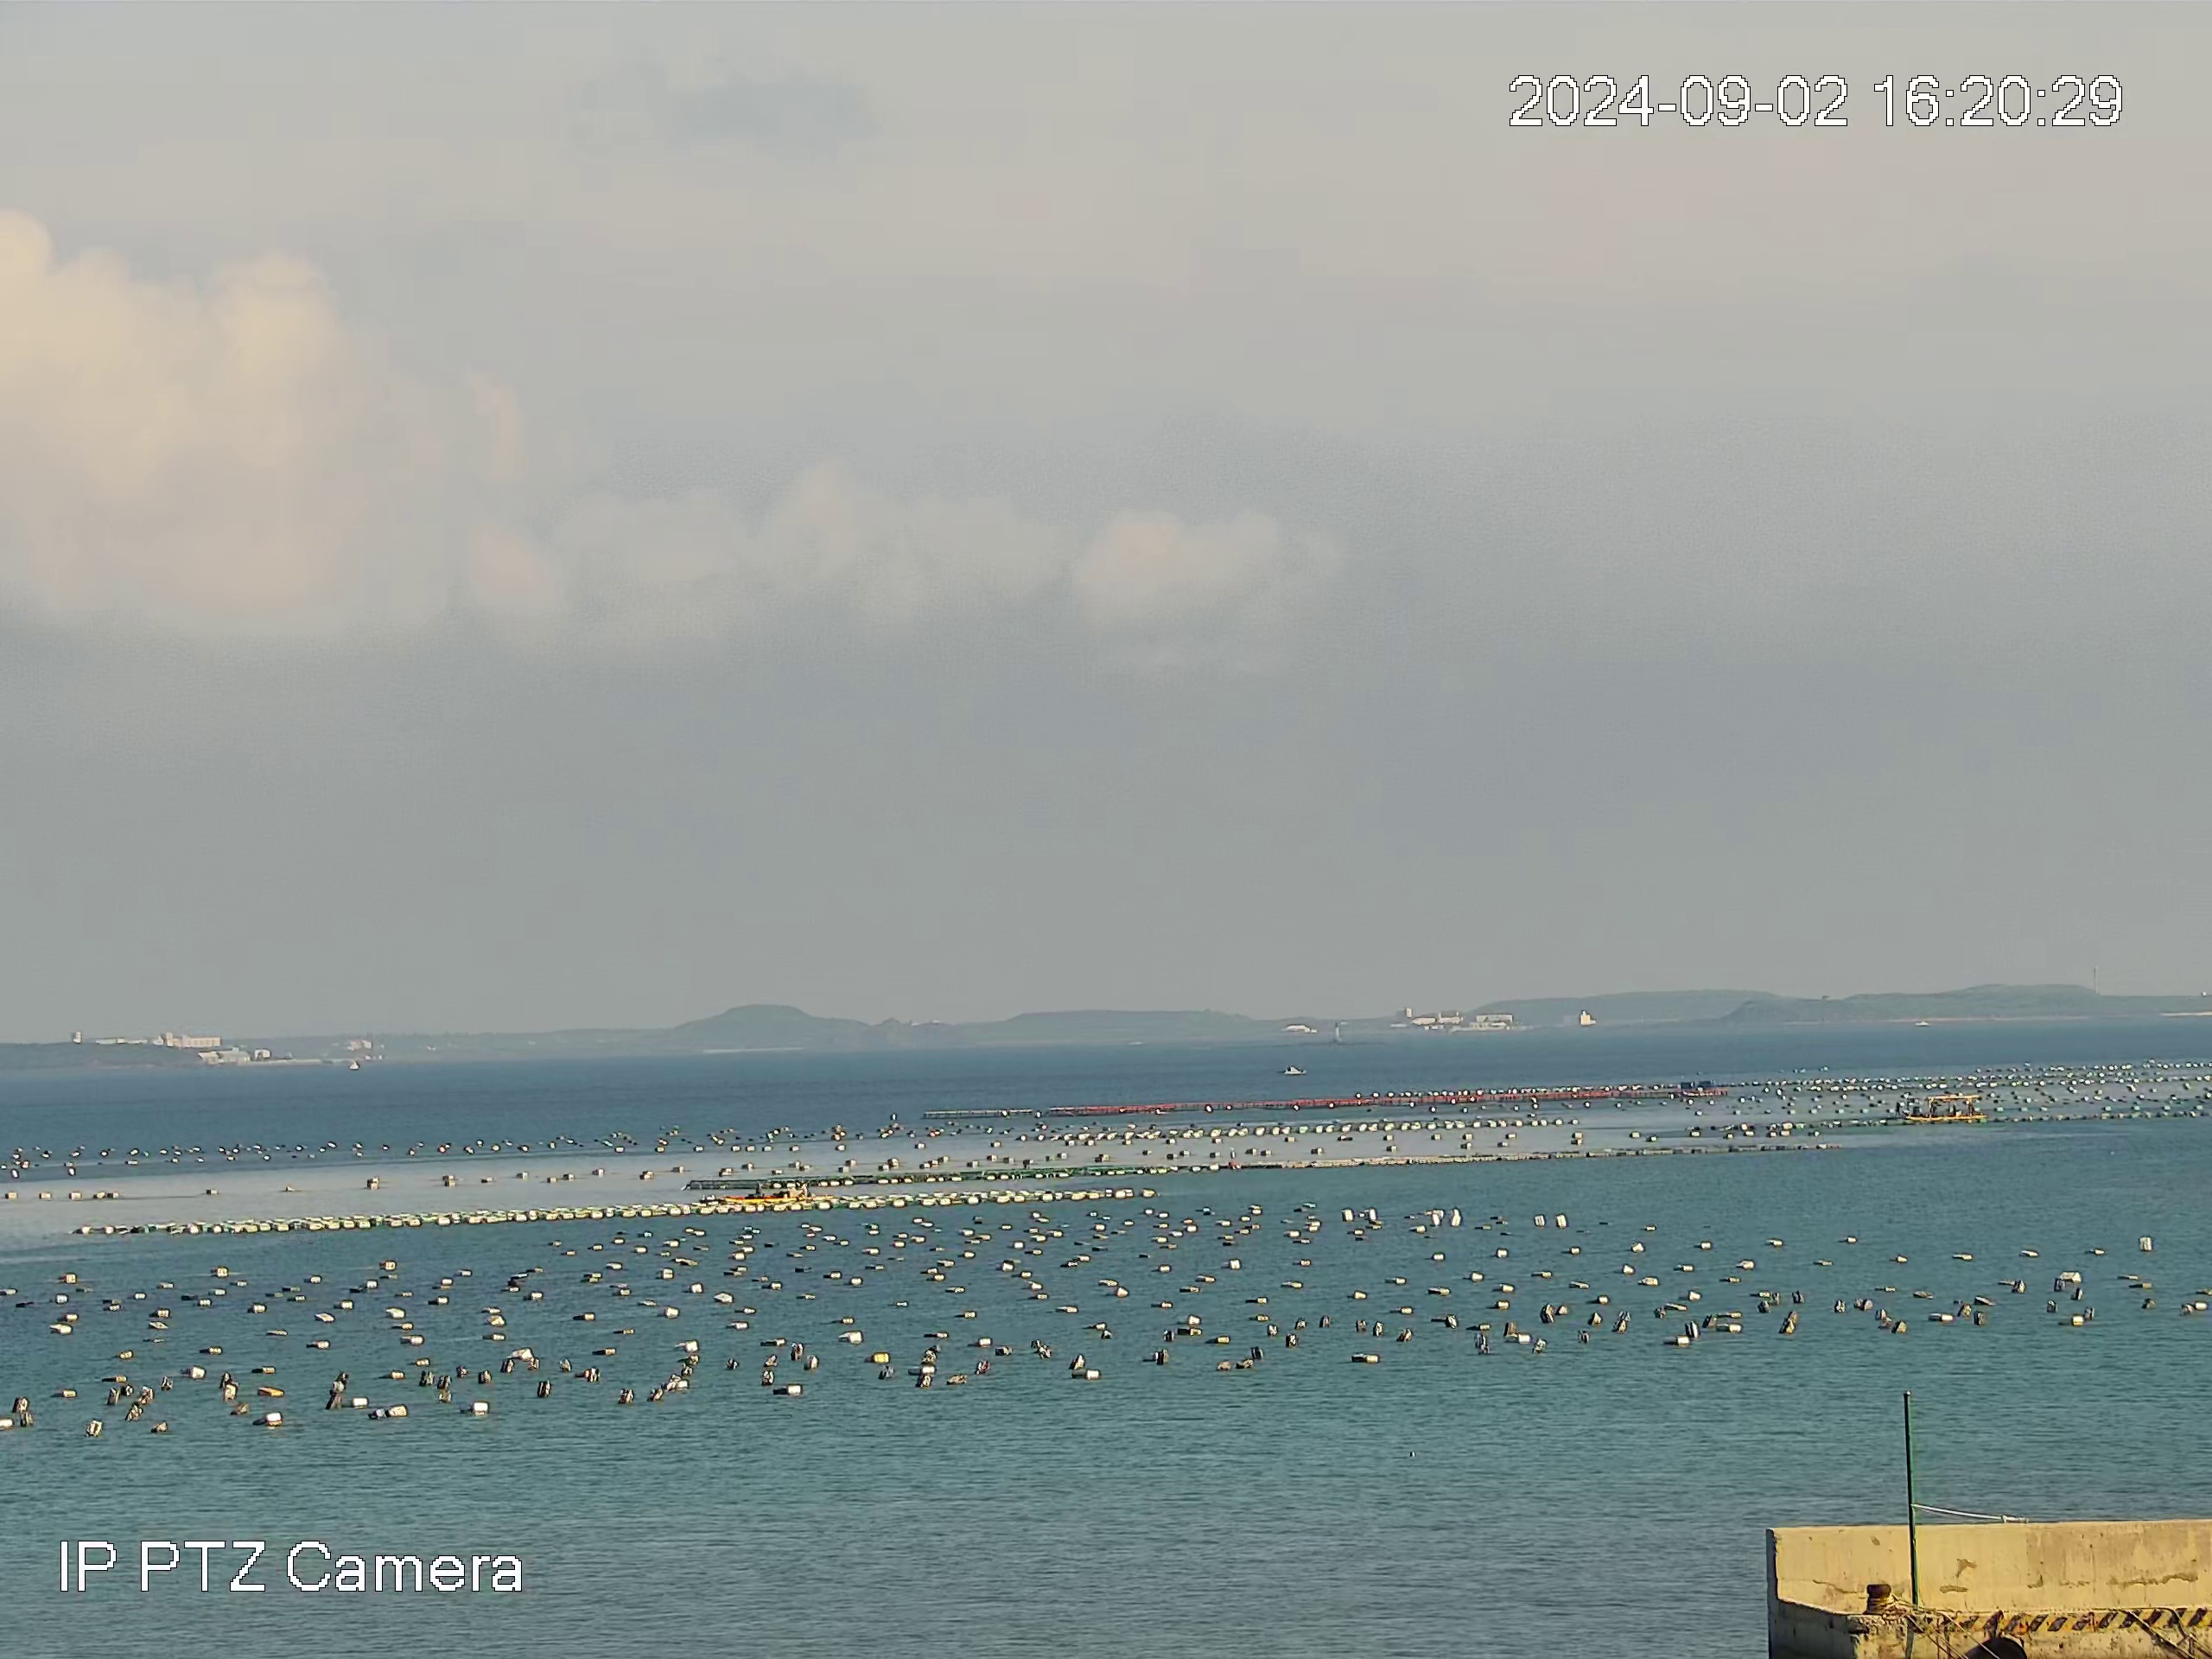boat: (1904, 1093, 1987, 1126), (723, 1180, 813, 1204), (1282, 1063, 1308, 1075)
